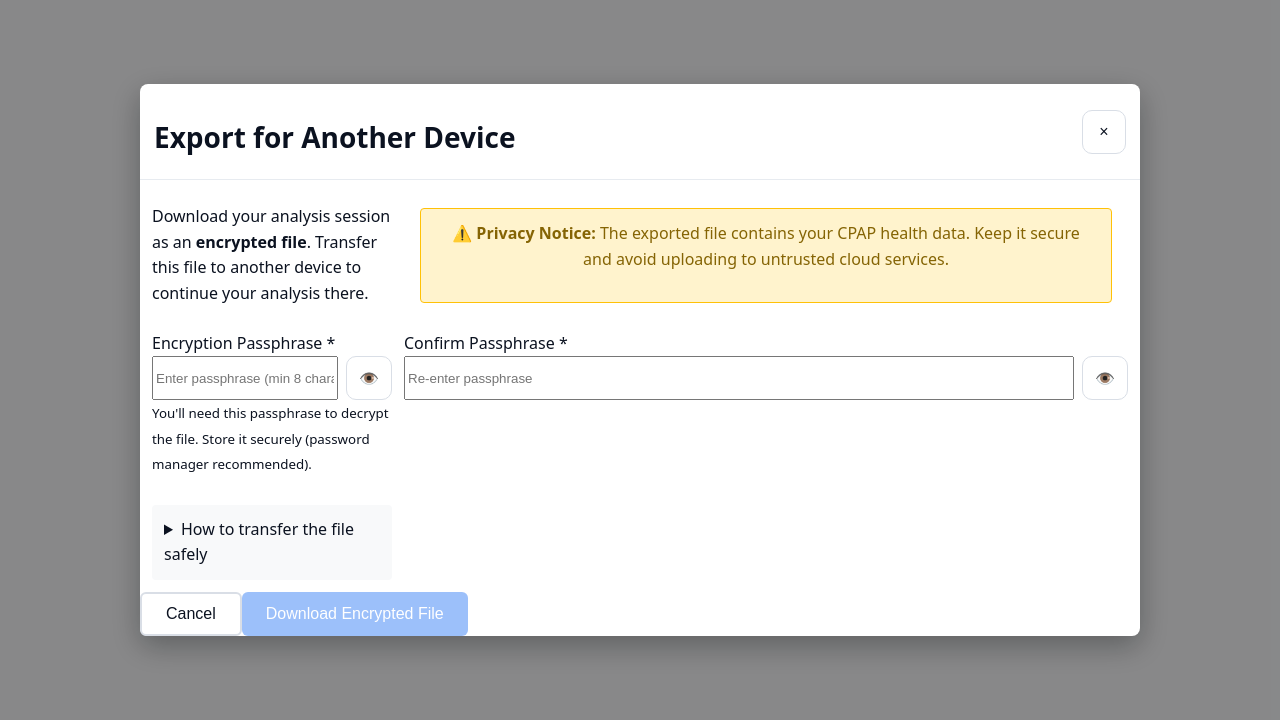
Test: ExportDataModal › should display passphrase strength meter
The width and height of the screenshot is (1280, 720).
Note: Weak passphrase
Type "12345678" into the password field labelled "Encryption Passphrase *" at (245, 378), box top-left (152, 356), bottom-right (338, 400)
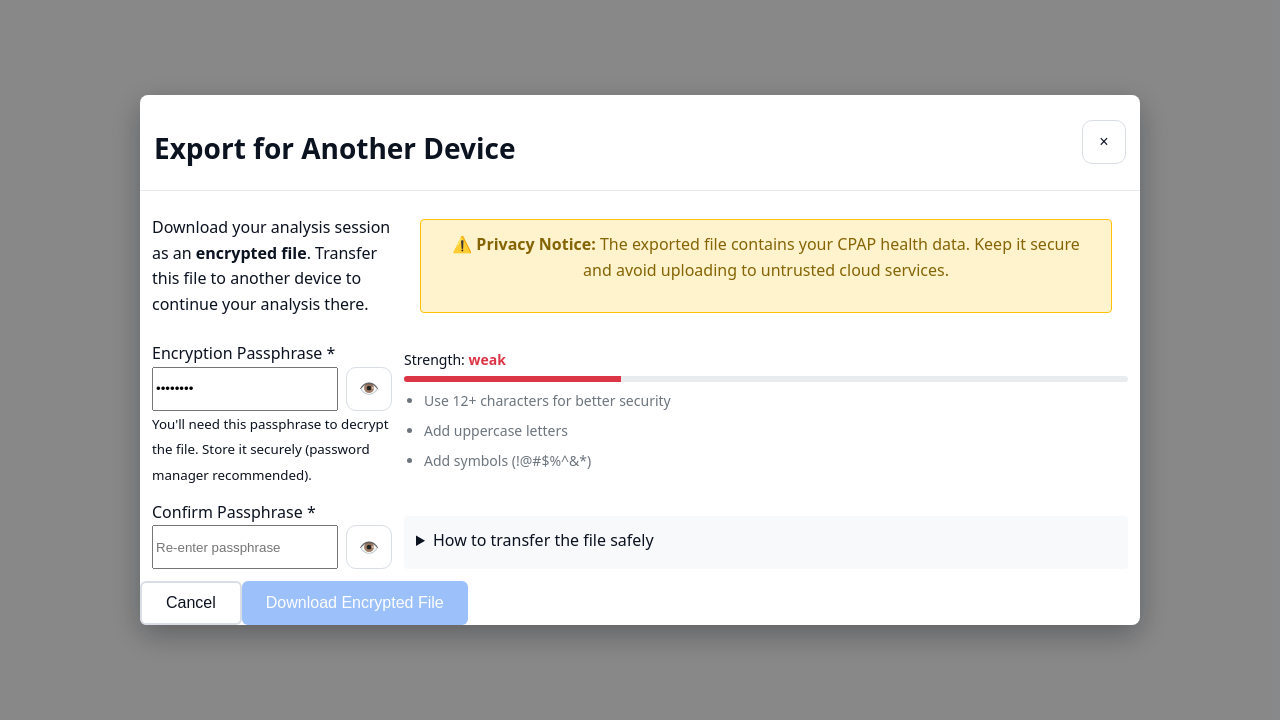
Now the text "weak" is shown, box top-left (468, 350), bottom-right (506, 369)
Note: Moderate passphrase
Type "Password123" into the password field labelled "Encryption Passphrase *" at (245, 389), box top-left (152, 367), bottom-right (338, 411)
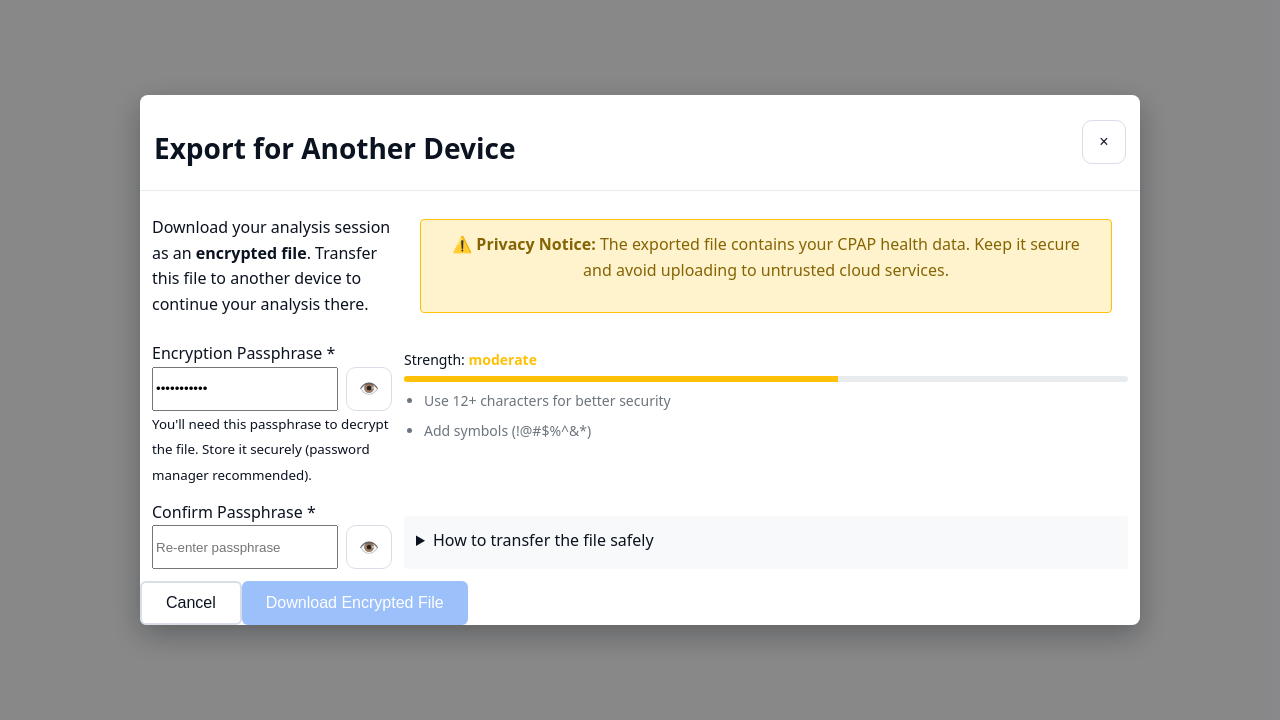
Now the text "moderate" is shown, box top-left (468, 350), bottom-right (537, 369)
Note: Strong passphrase
Type "MyStr0ng!Passw0rd" into the password field labelled "Encryption Passphrase *" at (245, 389), box top-left (152, 367), bottom-right (338, 411)
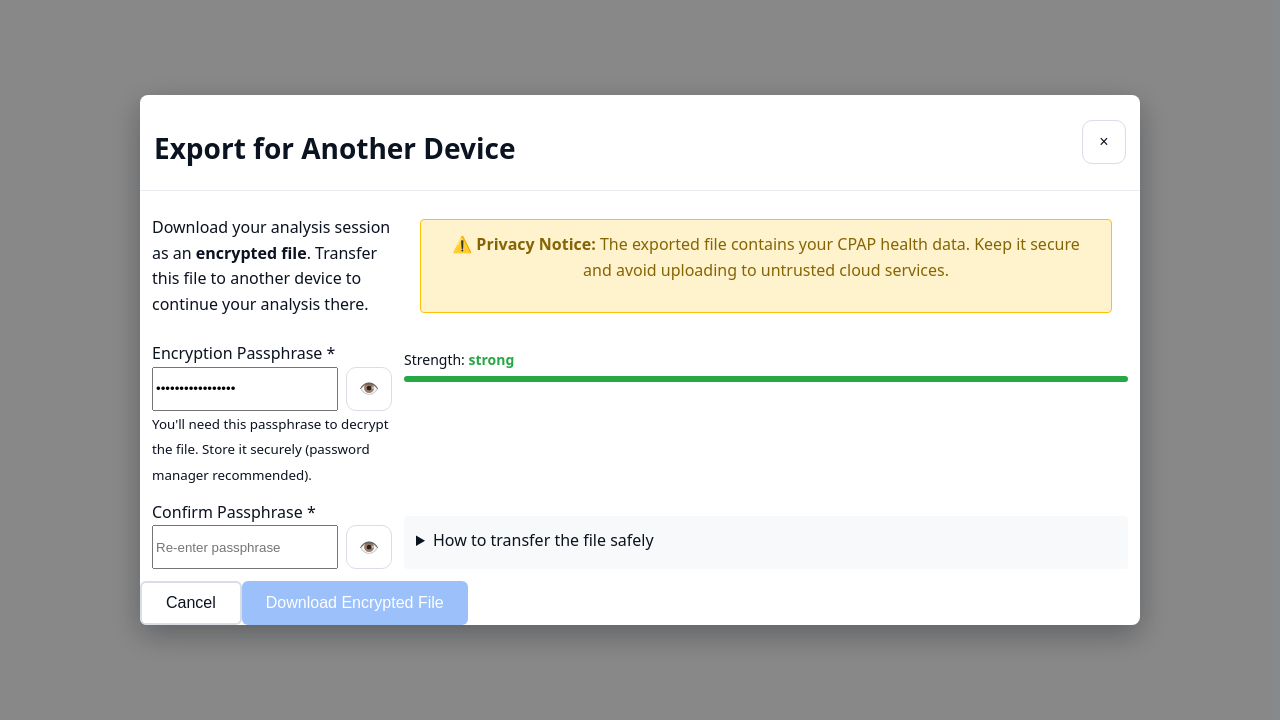
Now the text "strong" is shown, box top-left (468, 350), bottom-right (514, 369)
